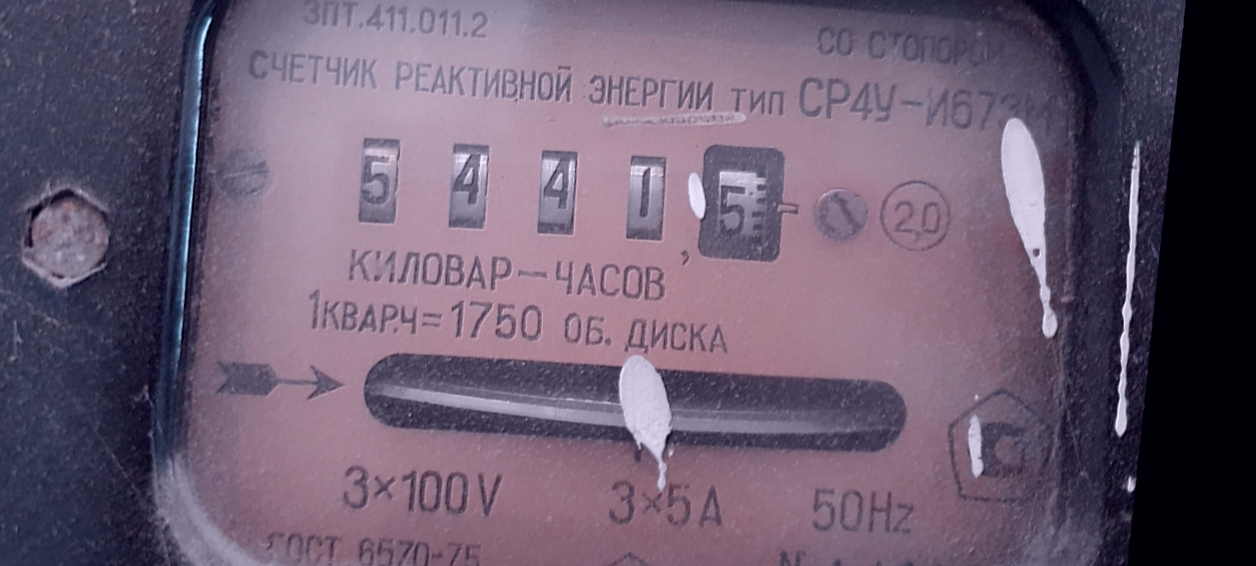1: (631, 163, 660, 223)
4: (536, 149, 579, 219), (448, 146, 490, 211)
5: (713, 178, 754, 244), (355, 150, 399, 211)
screen: (329, 83, 817, 296)
